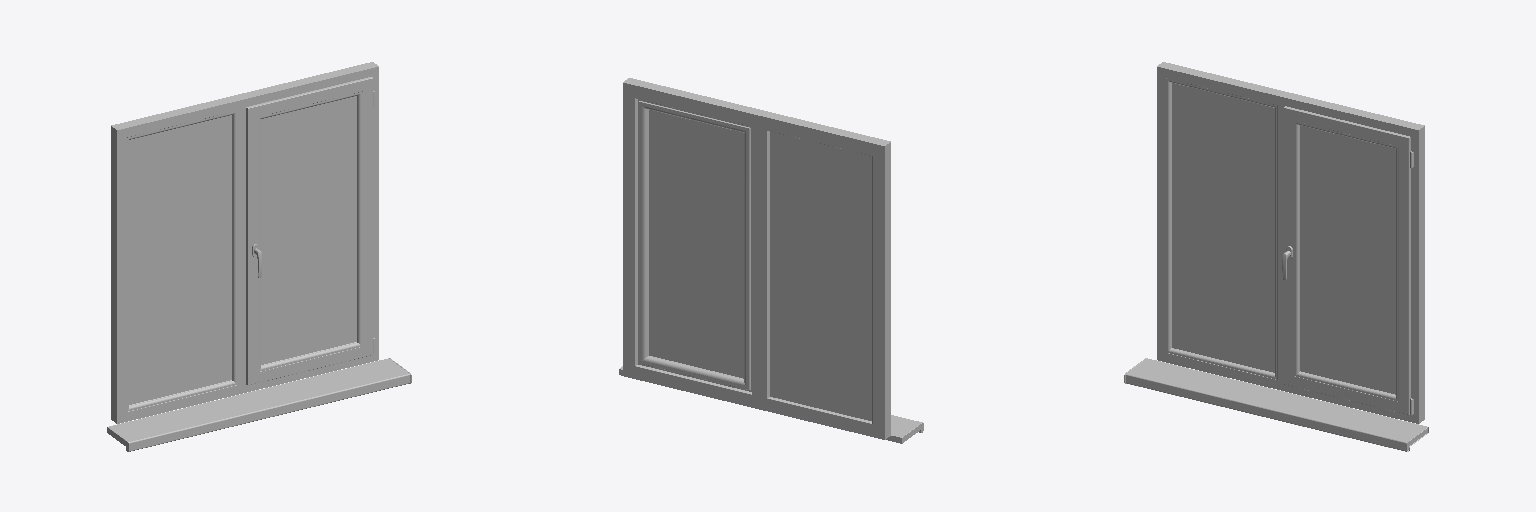
The model's file is window.obj.
3 renders of one model, left to right at view 1: azimuth 30°, elevation 25°; view 2: azimuth 150°, elevation 25°; view 3: azimuth 330°, elevation 25°, orthographic.
Parts seen in each view (by area): view 1: _______0; view 2: _______0; view 3: _______0.
Part boxes in pixels (bbox=[...]): _______0: bbox=[107, 62, 411, 451]; _______0: bbox=[619, 78, 923, 443]; _______0: bbox=[1124, 62, 1428, 451].
Bounding box in the file's own units: 1512 × 1552 × 262.